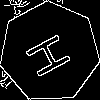H: (24, 27, 81, 81)
